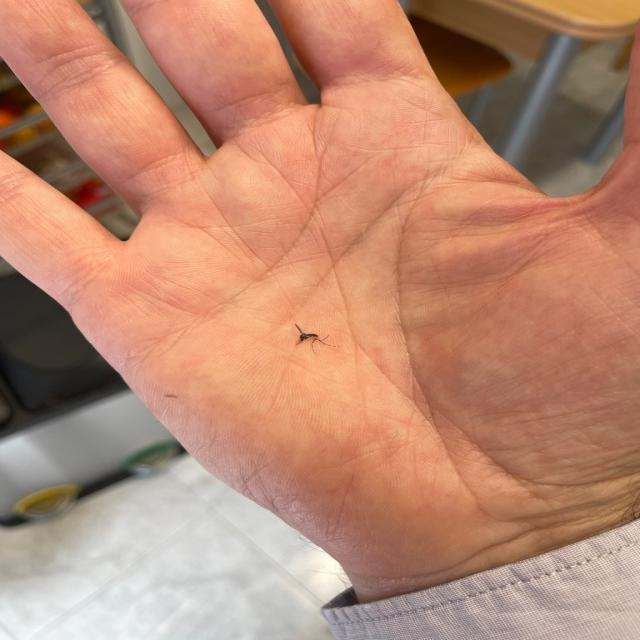albopictus: (289, 319, 343, 358)
